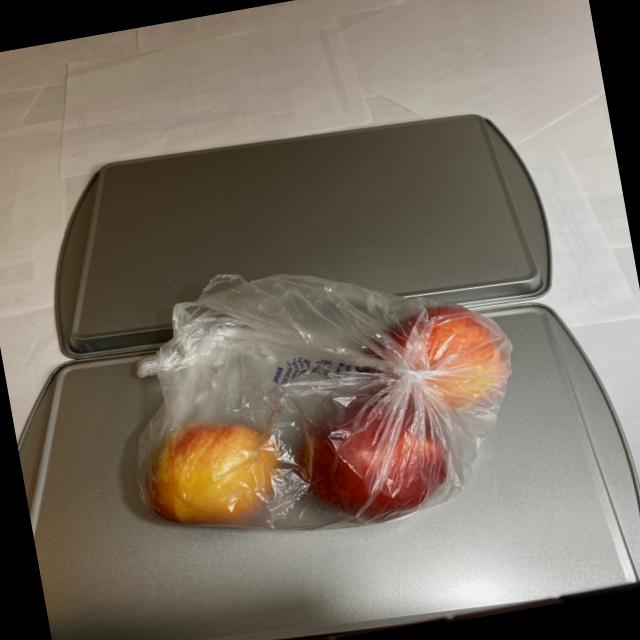apple: (112, 288, 544, 560)
